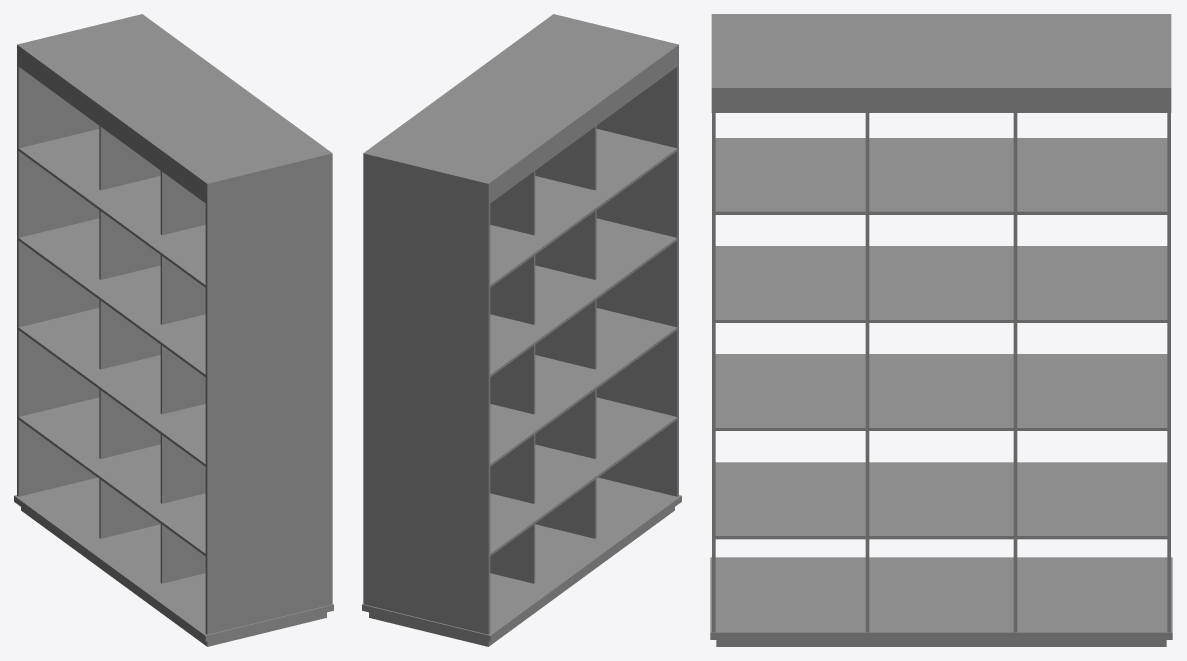
The model's file is shelves1.fbx.
3 renders of one model, left to right at view 1: azimuth 30°, elevation 25°; view 2: azimuth 150°, elevation 25°; view 3: azimuth 270°, elevation 25°, orthographic. The views are drawn at different scales.
Parts seen in each view (by area): view 1: shelves_01; view 2: shelves_01; view 3: shelves_01.
Part boxes in pixels (bbox=[...]): shelves_01: bbox=[14, 14, 333, 646]; shelves_01: bbox=[362, 14, 681, 646]; shelves_01: bbox=[710, 14, 1172, 646].
Size of the model in its own units: 79.03 by 274 by 204.
